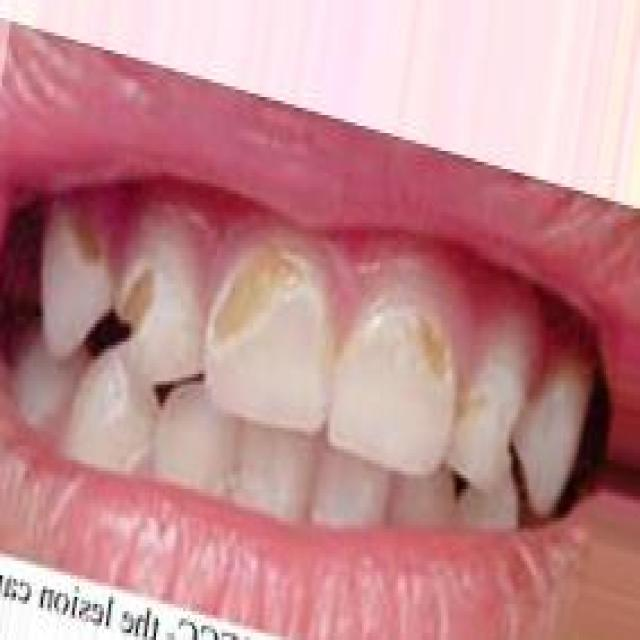caries: (206, 231, 330, 436), (342, 290, 460, 464), (111, 236, 198, 380)
